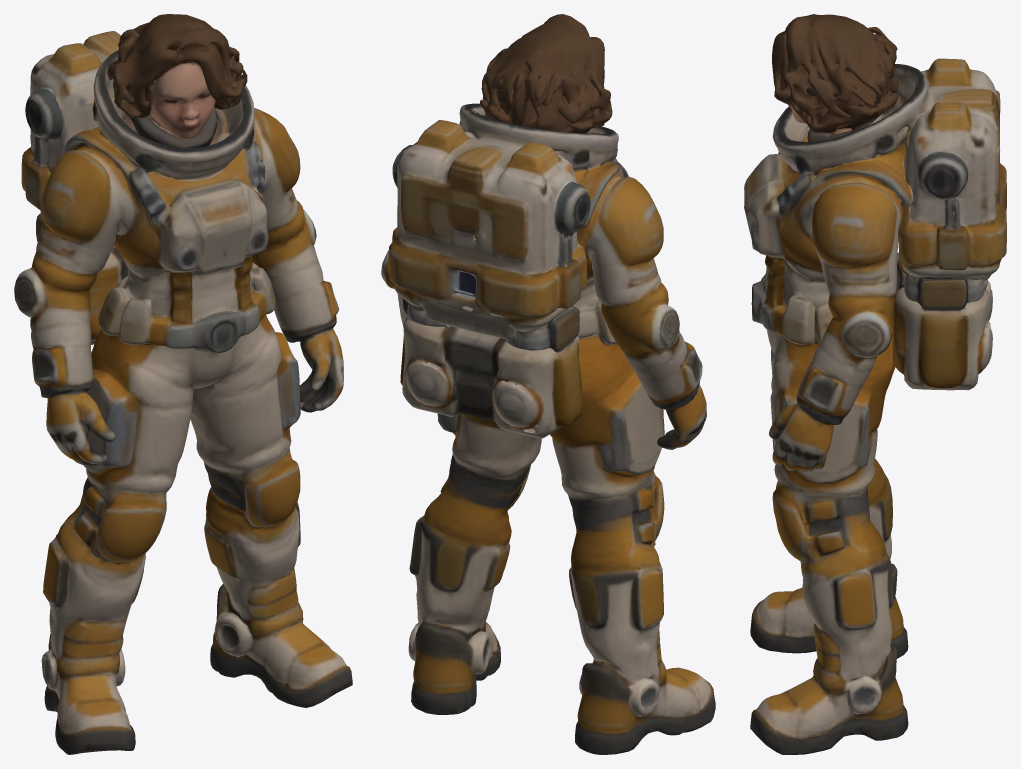
Rendered from generation_pilot_0.glb.
3 renders of one model, left to right at view 1: azimuth 30°, elevation 25°; view 2: azimuth 150°, elevation 25°; view 3: azimuth 270°, elevation 25°, orthographic. The views are drawn at different scales.
Parts seen in each view (by area): view 1: geometry_0; view 2: geometry_0; view 3: geometry_0.
Part boxes in pixels (<box>): geometry_0: <box>14,14,352,754</box>; geometry_0: <box>381,14,715,754</box>; geometry_0: <box>744,14,1006,754</box>.
Size of the model in its own units: 0.4569 by 1 by 0.3575.
Materials: 1 (1 with a texture image).
